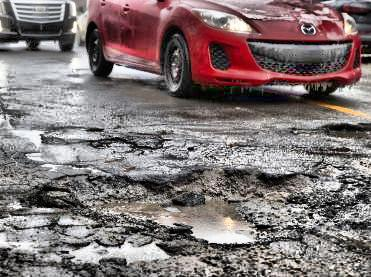pothole: (34, 170, 269, 261)
